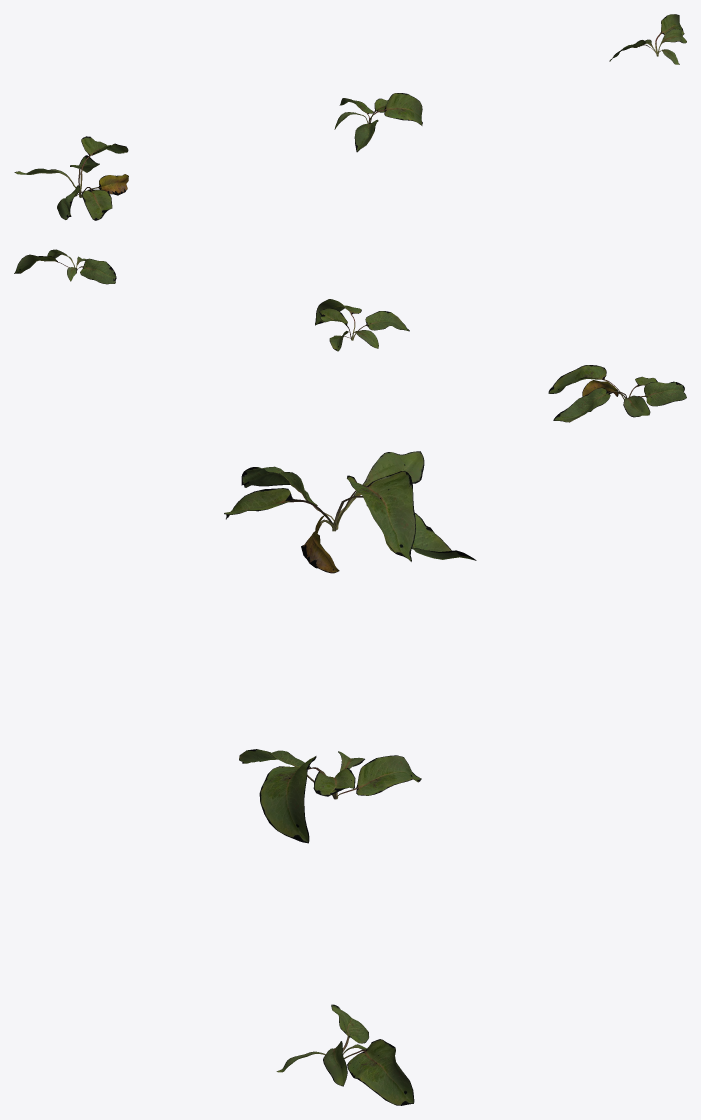
The model's file is weed_plant_02.glb.
The picture shows the model from 3 angles, top to bottom: view 1: azimuth 30°, elevation 25°; view 2: azimuth 150°, elevation 25°; view 3: azimuth 270°, elevation 25°; orthographic projection. The views are drawn at different scales.
Visible parts, largest first — view 1: weed_plant_02_b_LOD0, weed_plant_02_c_LOD0, weed_plant_02_d_LOD0; view 2: weed_plant_02_b_LOD0, weed_plant_02_c_LOD0, weed_plant_02_d_LOD0; view 3: weed_plant_02_b_LOD0, weed_plant_02_c_LOD0, weed_plant_02_d_LOD0.
Part boxes in pixels (x1,y1,x2,y2): weed_plant_02_b_LOD0: [14, 136, 128, 220]; weed_plant_02_c_LOD0: [334, 93, 422, 152]; weed_plant_02_d_LOD0: [609, 14, 686, 64]; weed_plant_02_b_LOD0: [548, 365, 686, 422]; weed_plant_02_c_LOD0: [315, 299, 409, 351]; weed_plant_02_d_LOD0: [14, 249, 116, 284]; weed_plant_02_b_LOD0: [224, 451, 476, 573]; weed_plant_02_c_LOD0: [239, 749, 421, 843]; weed_plant_02_d_LOD0: [276, 1004, 414, 1105].
Bounding box in the file's own units: 1.15 × 0.0681 × 0.1985.
Materials: 1 (1 with a texture image).
